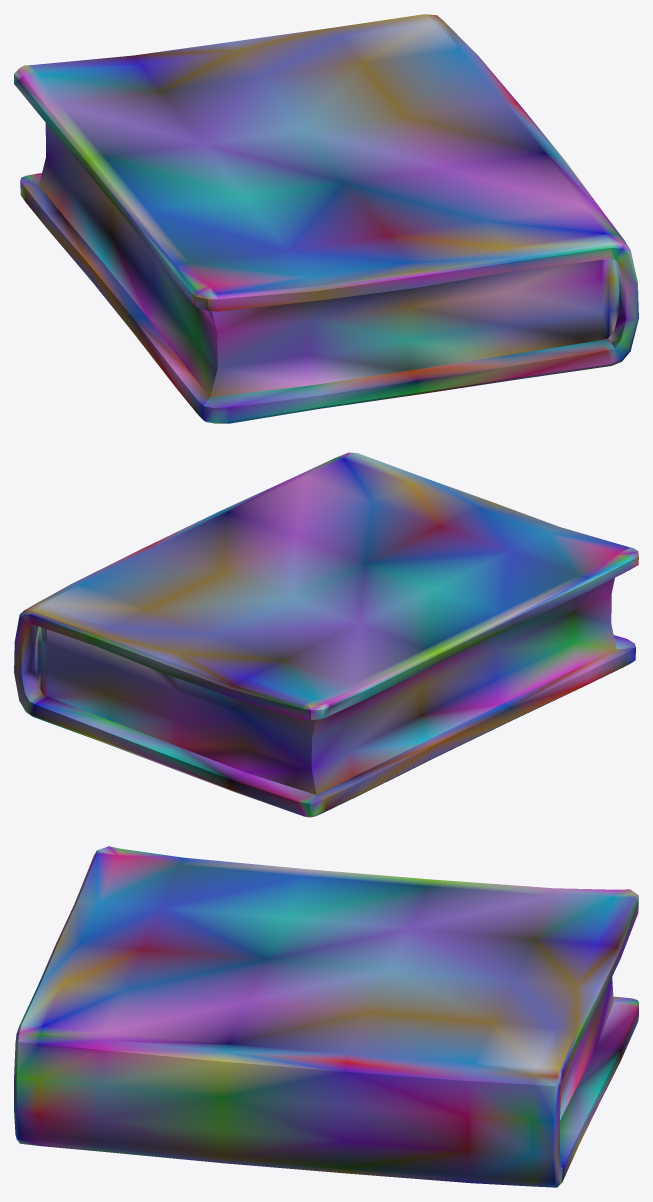
The model's file is Book01.fbx.
3 views of the same model, one above another, from view 1: azimuth 30°, elevation 25°; view 2: azimuth 150°, elevation 25°; view 3: azimuth 270°, elevation 25° (orthographic). The views are drawn at different scales.
Visible parts, largest first — view 1: Book; view 2: Book; view 3: Book.
Part boxes in pixels (<box>): Book: <box>14,14,638,423</box>; Book: <box>14,452,638,817</box>; Book: <box>14,846,638,1187</box>.
Size of the model in its own units: 87.22 by 22.18 by 101.
